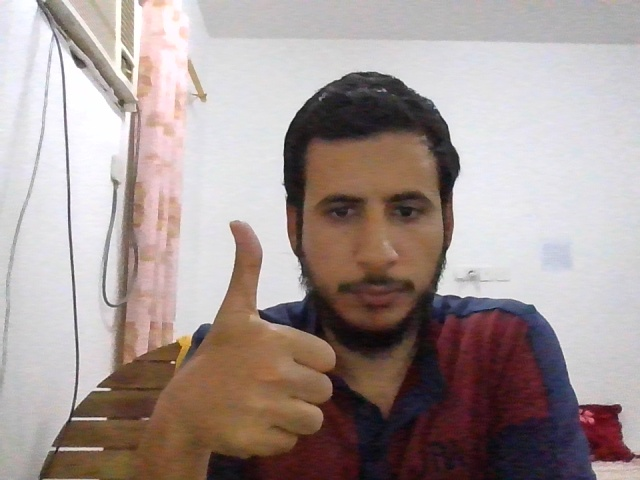One: (189, 220, 335, 460)
